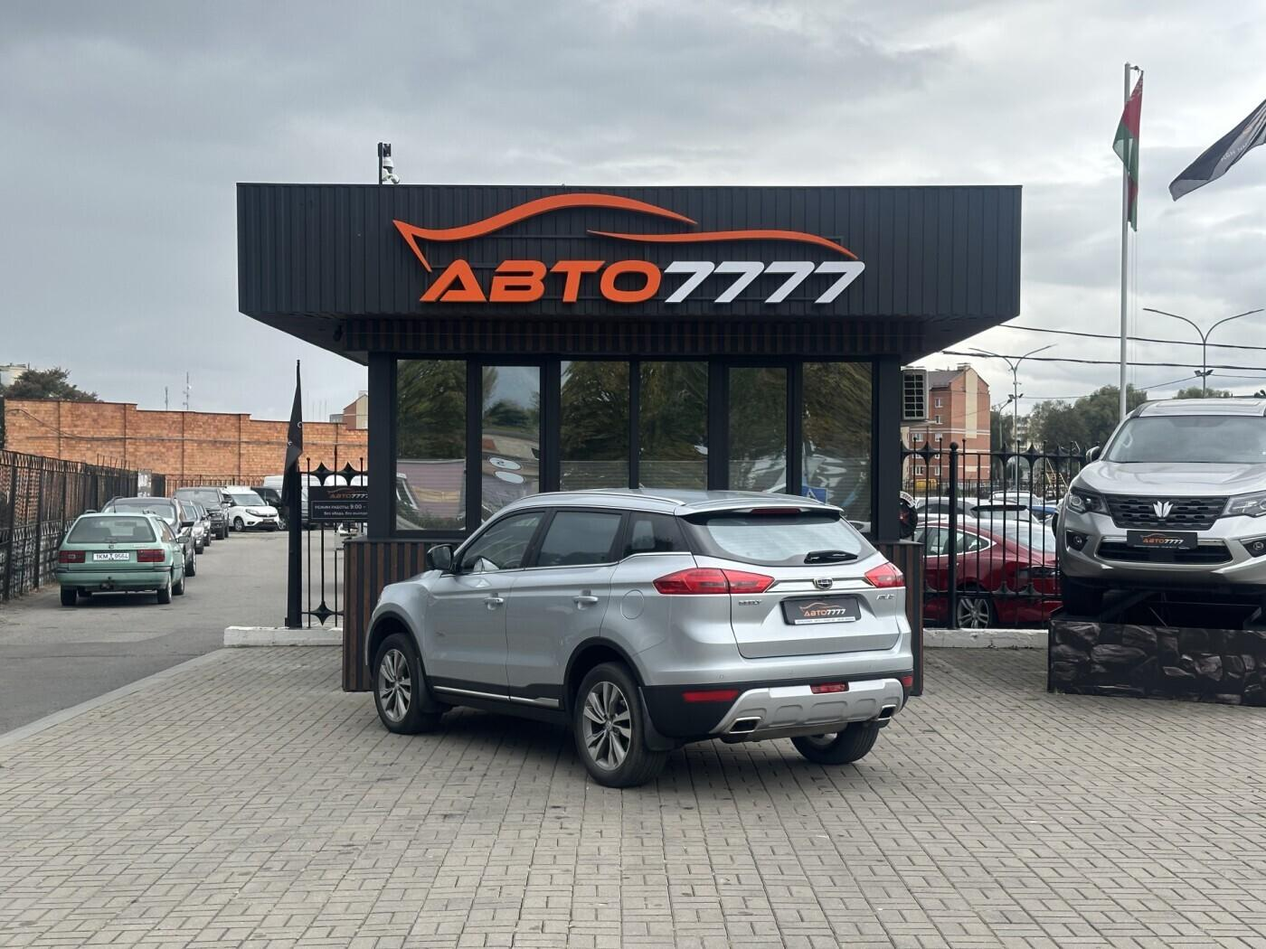Atlas_2016-2023: (362, 476, 918, 784)
